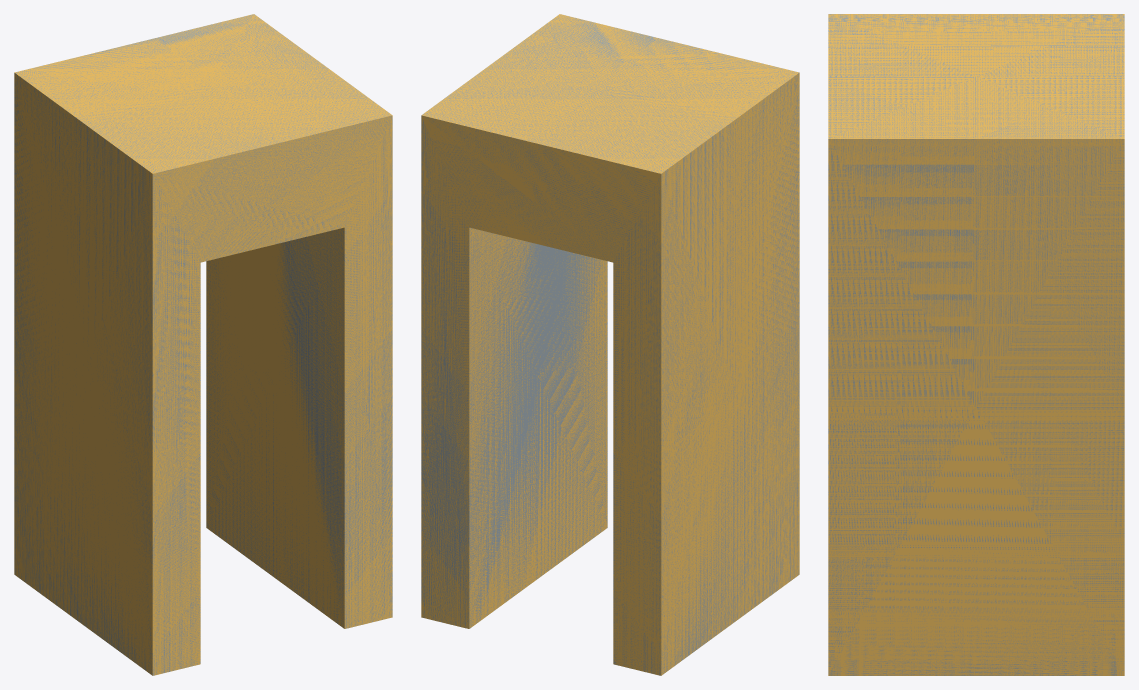
File: door.fbx
3 views of the same model, side by side, from view 1: azimuth 30°, elevation 25°; view 2: azimuth 150°, elevation 25°; view 3: azimuth 270°, elevation 25° (orthographic). The views are drawn at different scales.
Visible parts, largest first — view 1: Group1; view 2: Group1; view 3: Group1.
Boxes of the visible parts, x1,y1,x2,y2 form: Group1: (14,14,392,675); Group1: (421,14,799,675); Group1: (828,14,1124,675).
Size of the model in its own units: 100 by 200 by 100.
